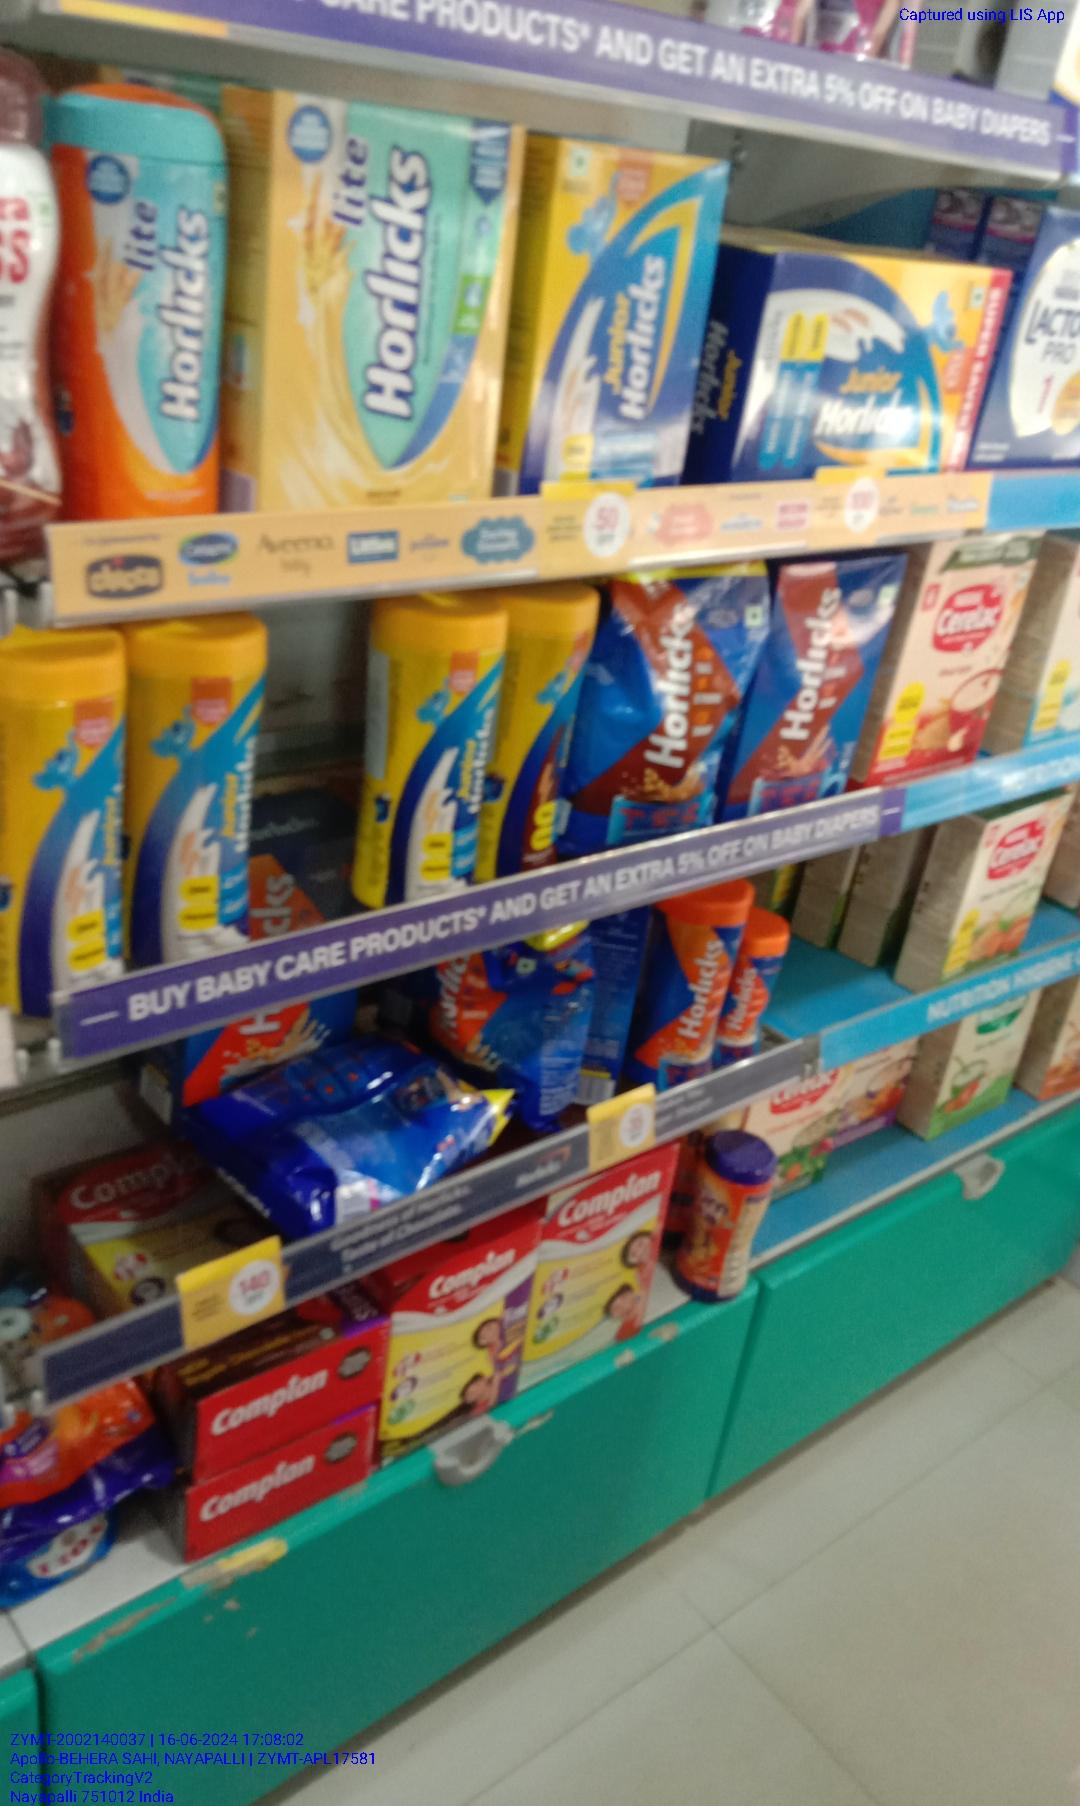HORLICKS_JUNIOR_VANILLA_500_GM_JAR: (129, 643, 256, 959), (0, 665, 122, 985), (354, 614, 485, 892)
HORLICKS_LITE_REGULAR_MALT_500_GM_JAR: (58, 114, 215, 515)
HORLICK_CHOCOLATE_750_G_POUCH: (594, 578, 739, 832), (742, 568, 873, 796)
